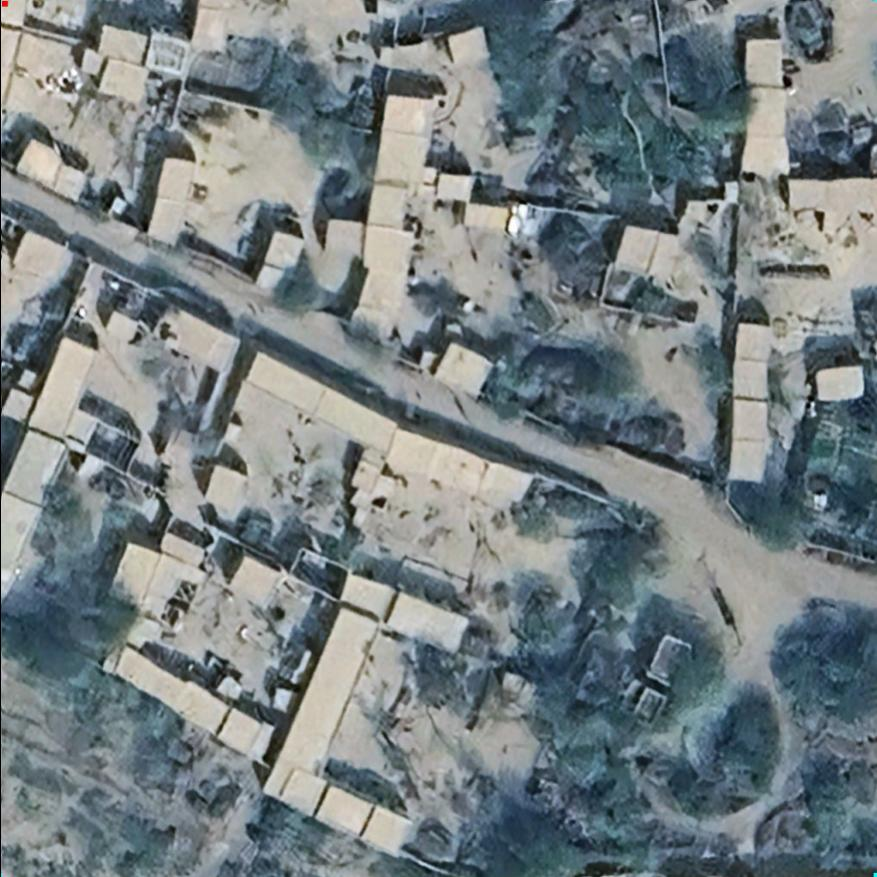Solarpanel: (149, 36, 185, 73)
